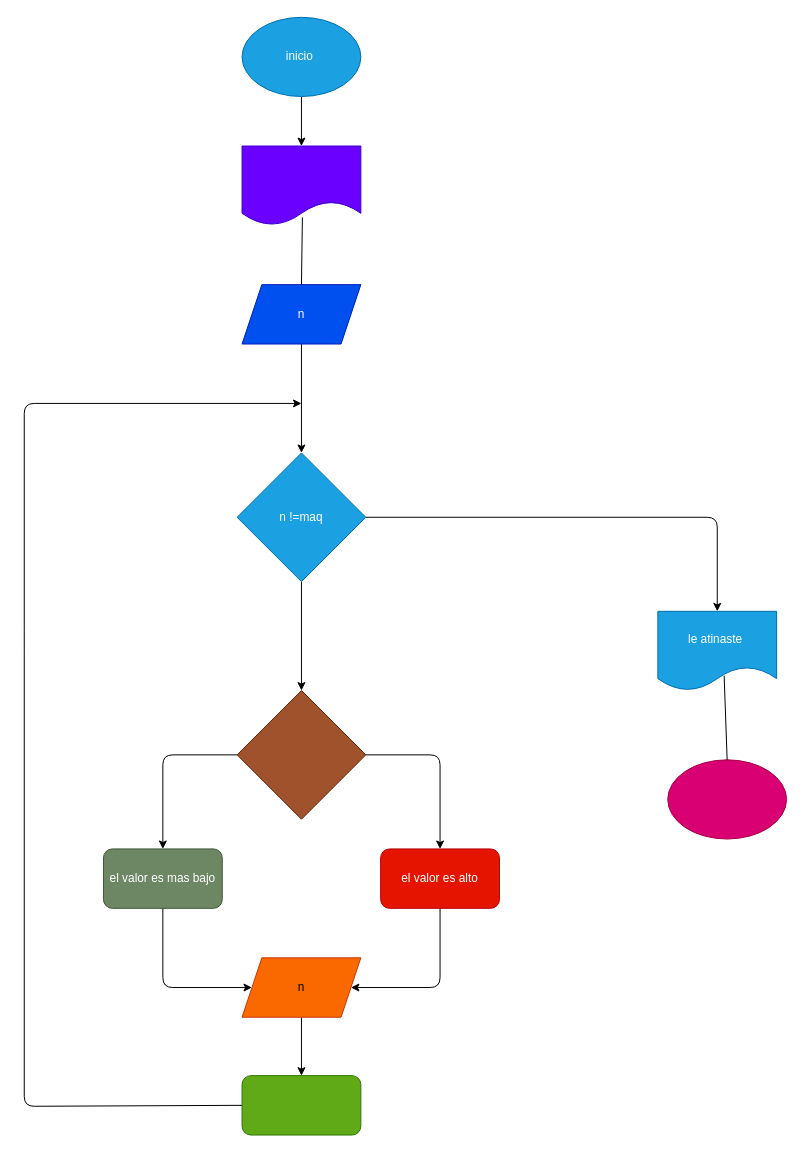
This 804x1152 diagram has some shape labels left out. Here are the shapes that lost their labels. From the top down, the centre of each, then its label:
pixel 301 185: maq = ramdom (1,100) Y= 1
pixel 301 754: n < maq
pixel 727 799: fin
pixel 301 1105: i + i + 1
